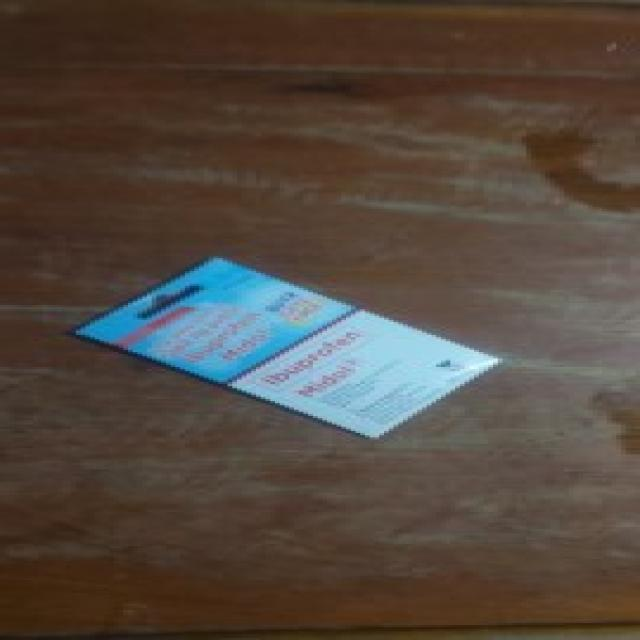Cacat: (69, 253, 505, 446)
